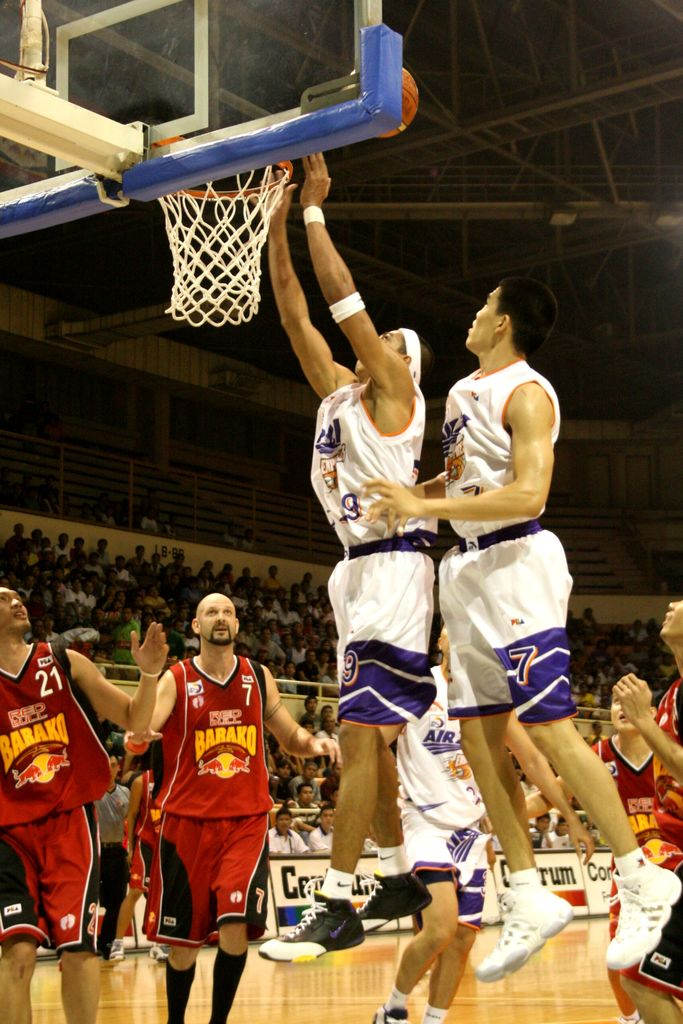Ball: (369, 65, 413, 139)
